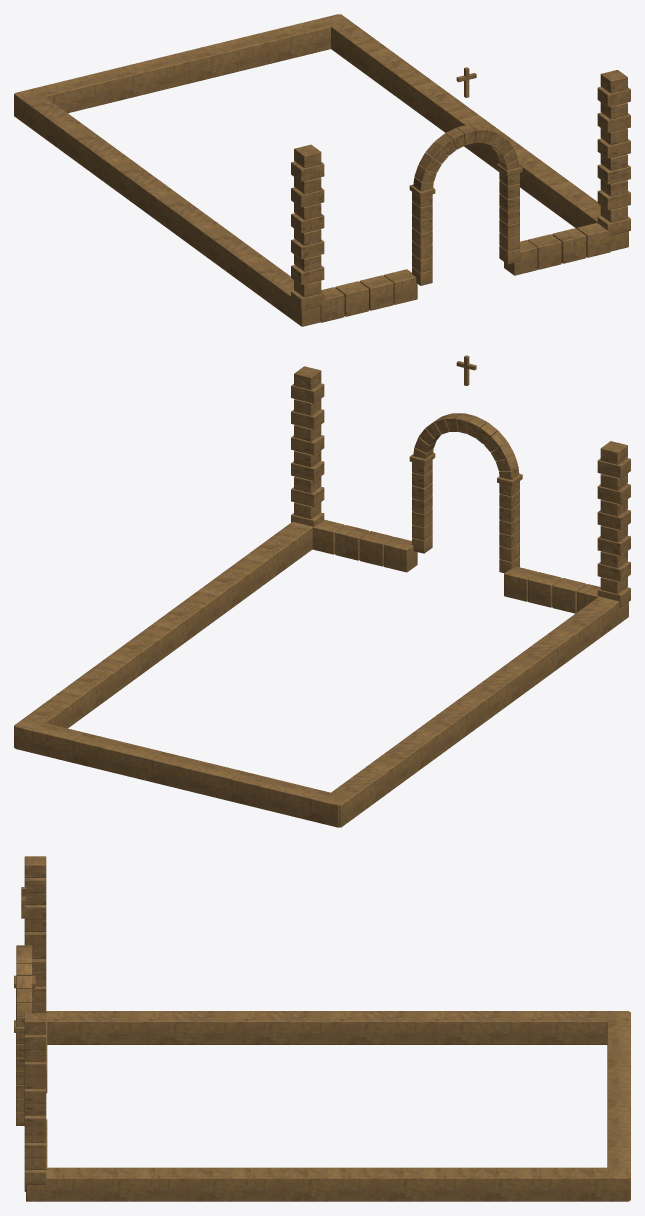
Rendered from stone_facade.glb.
3 views of the same model, one above another, from view 1: azimuth 30°, elevation 25°; view 2: azimuth 150°, elevation 25°; view 3: azimuth 270°, elevation 25° (orthographic). The views are drawn at different scales.
Parts seen in each view (by area): view 1: LimestoneSurface; view 2: LimestoneSurface; view 3: LimestoneSurface.
Boxes of the visible parts, x1,y1,x2,y2 form: LimestoneSurface: (14,14,630,326); LimestoneSurface: (14,355,630,827); LimestoneSurface: (14,856,630,1201).
Bounding box in the file's own units: 7.54 × 4.8 × 11.65.
Materials: 1 (1 with a texture image).
